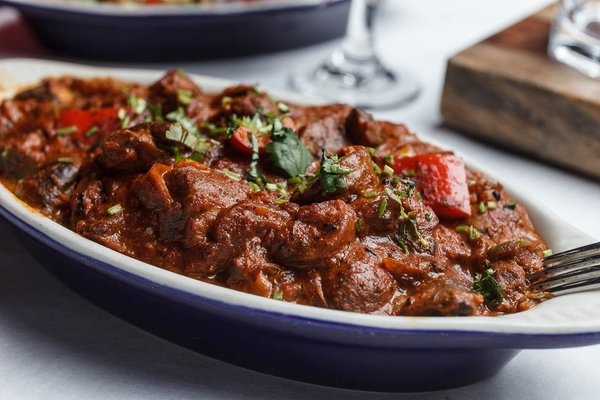sushi: (0, 62, 582, 390), (1, 0, 354, 62)
